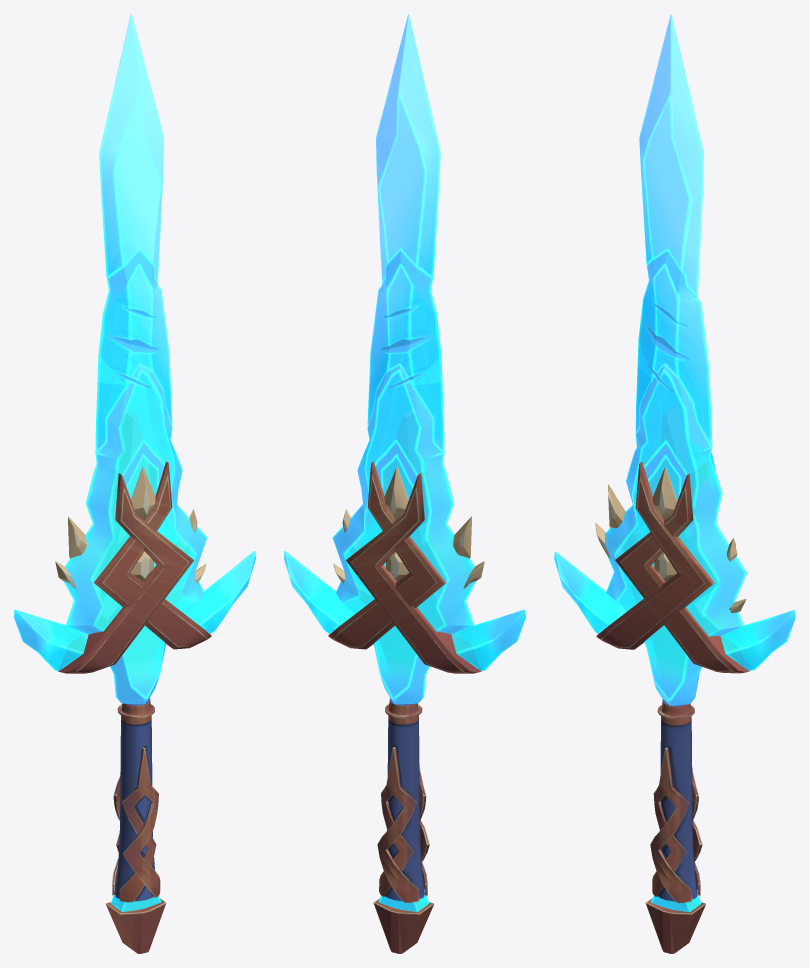
File: elemental_ice_sword.glb
The picture shows the model from 3 angles, left to right: view 1: azimuth 30°, elevation 25°; view 2: azimuth 150°, elevation 25°; view 3: azimuth 330°, elevation 25°; orthographic projection.
Visible parts, largest first — view 1: SM_Elemental_IceSword; view 2: SM_Elemental_IceSword; view 3: SM_Elemental_IceSword.
Part boxes in pixels (bbox=[...]): SM_Elemental_IceSword: bbox=[14, 14, 255, 953]; SM_Elemental_IceSword: bbox=[284, 14, 525, 953]; SM_Elemental_IceSword: bbox=[554, 14, 795, 953].
Bounding box in the file's own units: 0.4494 × 1.66 × 0.0794.
Materials: 1 (1 with a texture image).
